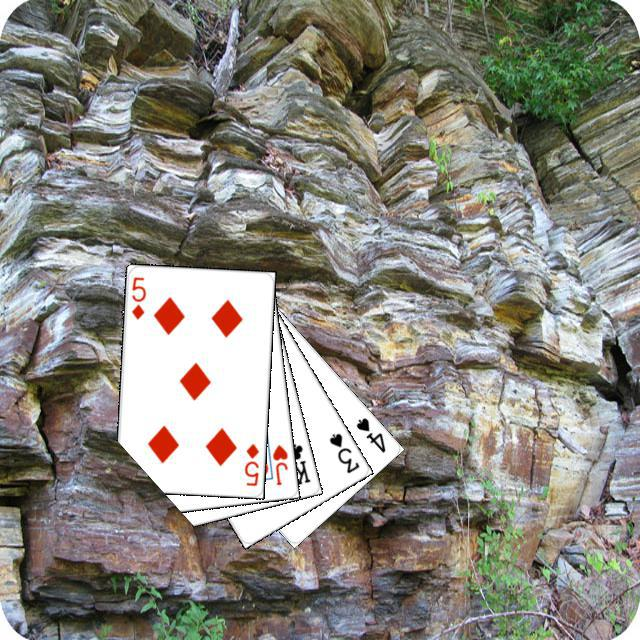3s: (324, 428, 361, 475)
4s: (351, 413, 387, 455)
5d: (239, 439, 261, 488), (127, 272, 147, 321)
Jh: (268, 439, 289, 487)
Kc: (277, 436, 312, 487)
